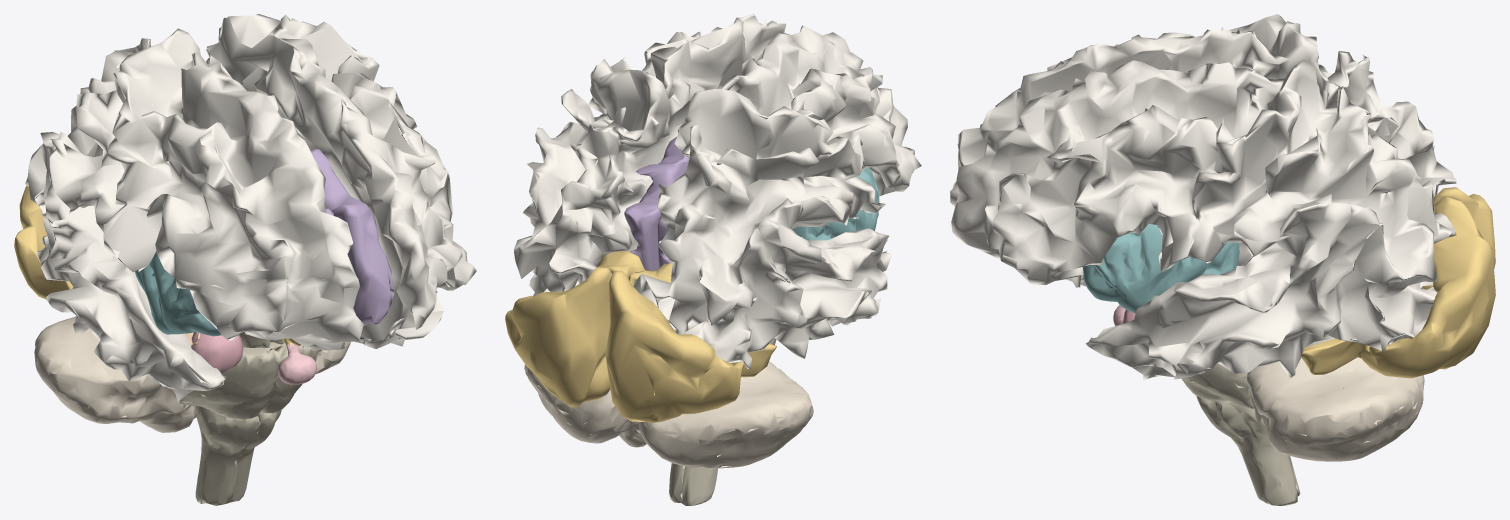
File: brain.glb
The picture shows the model from 3 angles, left to right: view 1: azimuth 30°, elevation 25°; view 2: azimuth 150°, elevation 25°; view 3: azimuth 270°, elevation 25°; orthographic projection. The views are drawn at different scales.
Parts seen in each view (by area): view 1: white-matter-right, white-matter-left, cerebellum, medulla, cingulate, pons, insula, occipital-lobe, amygdala, pituitary; view 2: white-matter-right, white-matter-left, occipital-lobe, cerebellum, cingulate, medulla, insula; view 3: white-matter-left, white-matter-right, cerebellum, occipital-lobe, insula, medulla, pons.
Boxes of the visible parts, left/top/right/bottom form: white-matter-right: left=25, top=28, right=363, bottom=401; white-matter-left: left=206, top=14, right=476, bottom=348; cerebellum: left=34, top=316, right=350, bottom=432; medulla: left=195, top=406, right=281, bottom=505; cingulate: left=310, top=148, right=394, bottom=324; pons: left=179, top=342, right=318, bottom=420; insula: left=135, top=251, right=221, bottom=336; occipital-lobe: left=14, top=185, right=73, bottom=299; amygdala: left=191, top=332, right=243, bottom=372; pituitary: left=277, top=342, right=316, bottom=384; white-matter-right: left=633, top=25, right=921, bottom=369; white-matter-left: left=514, top=14, right=786, bottom=296; occipital-lobe: left=505, top=251, right=776, bottom=423; cerebellum: left=524, top=361, right=813, bottom=468; cingulate: left=624, top=136, right=689, bottom=270; medulla: left=669, top=463, right=717, bottom=505; insula: left=793, top=167, right=879, bottom=240; white-matter-left: left=951, top=59, right=1456, bottom=380; white-matter-right: left=950, top=14, right=1456, bottom=206; cerebellum: left=1246, top=357, right=1424, bottom=461; occipital-lobe: left=1301, top=187, right=1495, bottom=378; insula: left=1082, top=224, right=1239, bottom=313; medulla: left=1196, top=396, right=1300, bottom=505; pons: left=1181, top=363, right=1253, bottom=408.
Bounding box in the file's own units: 2.16 × 2.74 × 2.99.
